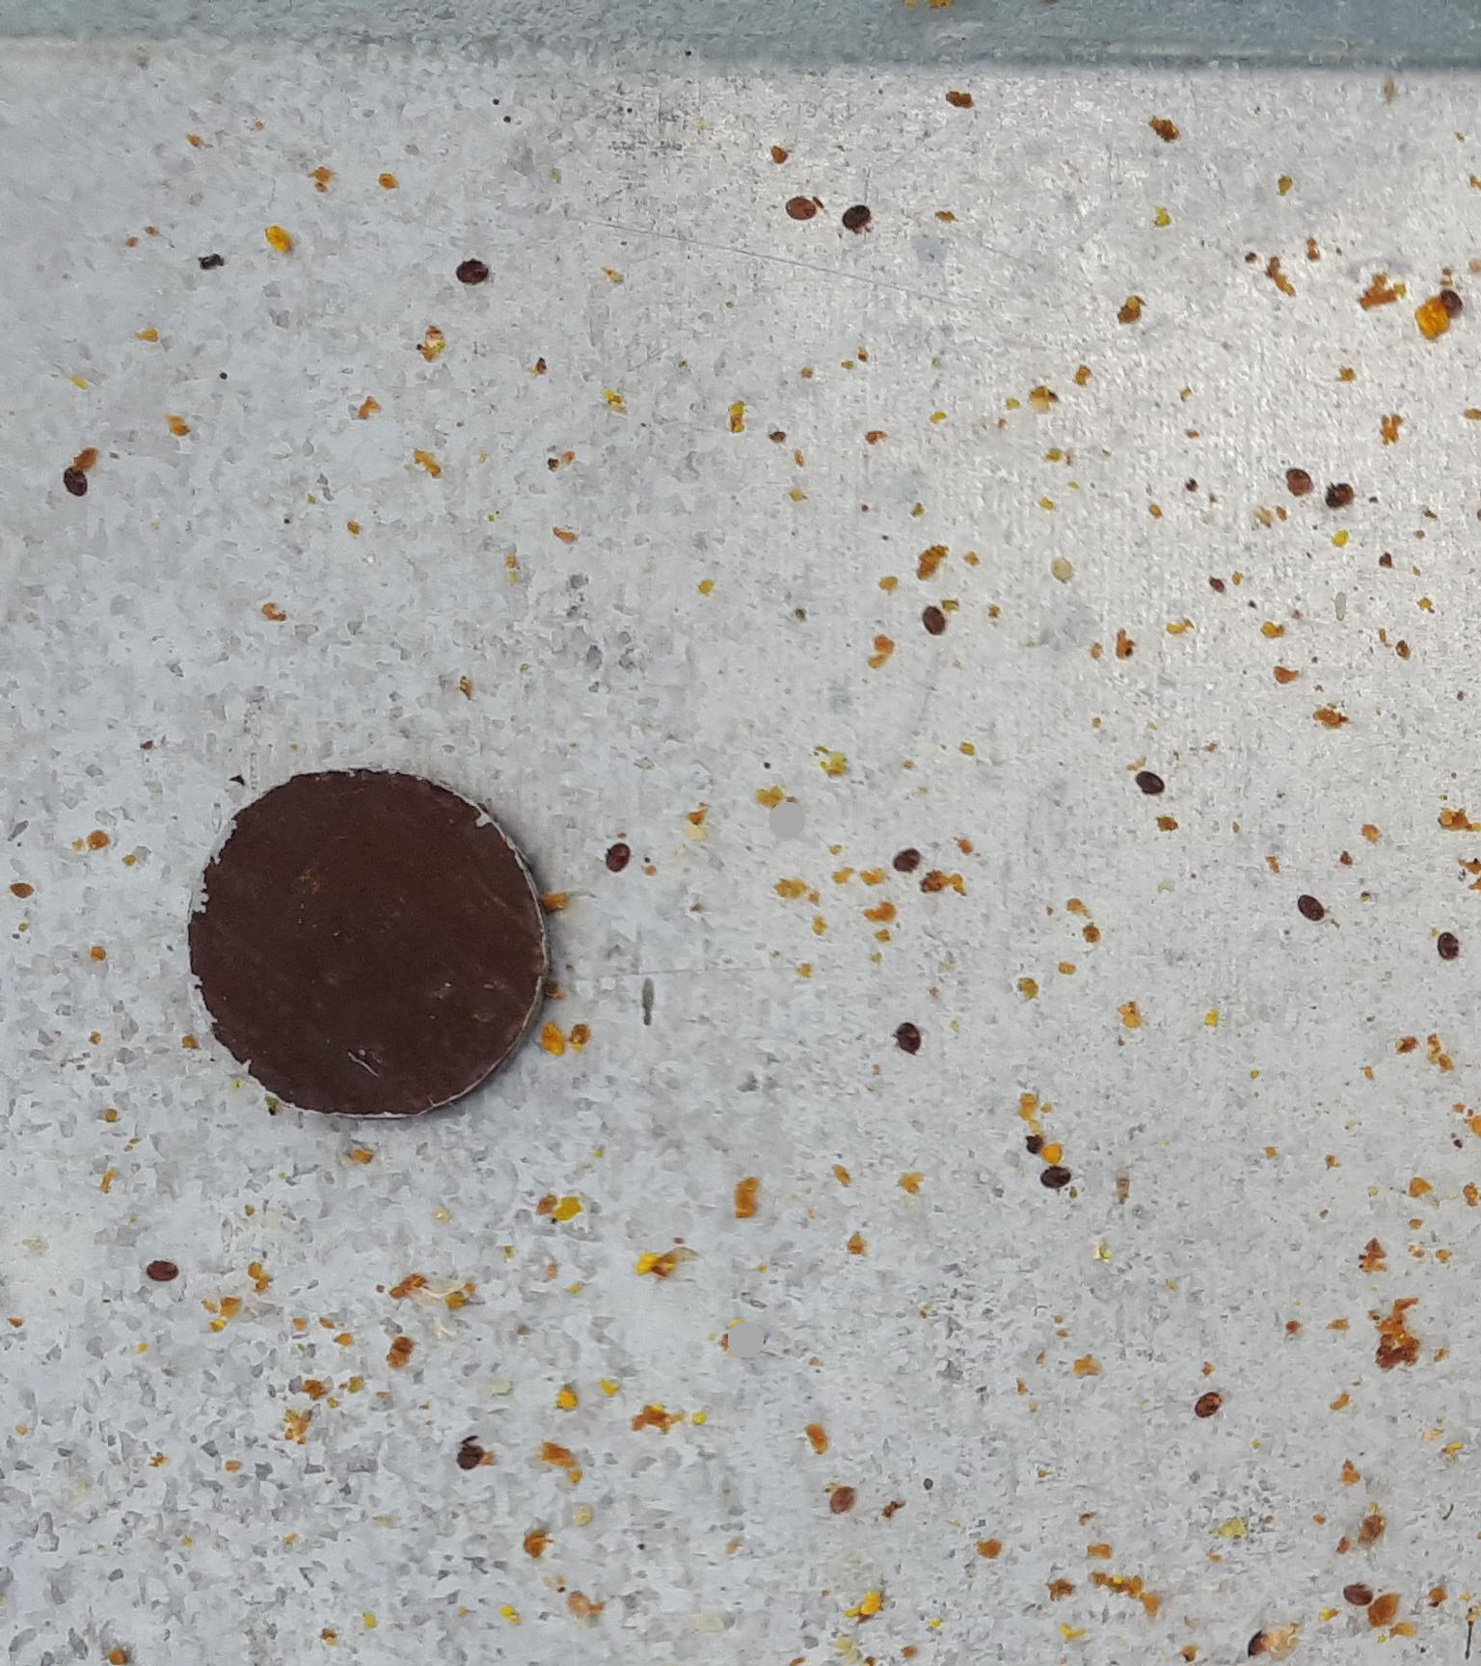Varroa: (842, 202, 878, 237), (140, 1251, 174, 1286), (1277, 462, 1311, 495), (455, 257, 487, 289), (453, 1440, 485, 1472), (1135, 767, 1167, 798), (781, 190, 812, 222), (1038, 1161, 1069, 1193), (891, 1021, 921, 1053), (1432, 934, 1462, 964), (1432, 287, 1462, 317), (59, 462, 89, 492), (1324, 480, 1355, 509), (891, 847, 919, 877), (1344, 1582, 1372, 1612), (1191, 1391, 1219, 1420), (605, 844, 633, 872), (1298, 894, 1325, 922), (921, 603, 946, 631)
